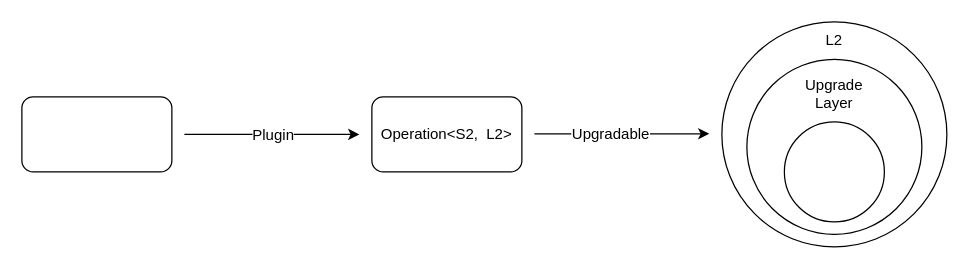
The diagram is 969 pixels wide and 269 high, and some of its shapes have lost their labels. Each missing label, with the centre of its shape:
"Operation<S1, L1>" belongs at pixel 96 134.
"S2" belongs at pixel 833 171.
